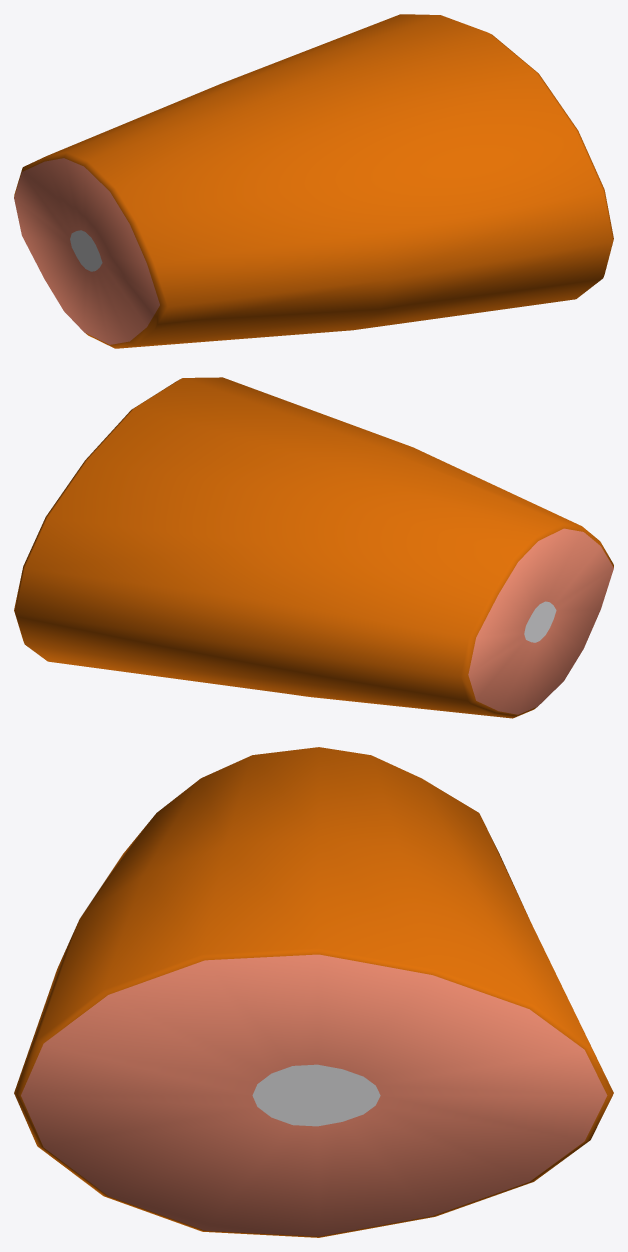
The model's file is Fish_05.3.fbx.
3 views of the same model, one above another, from view 1: azimuth 30°, elevation 25°; view 2: azimuth 150°, elevation 25°; view 3: azimuth 270°, elevation 25° (orthographic). The views are drawn at different scales.
Parts seen in each view (by area): view 1: Fish_05.3; view 2: Fish_05.3; view 3: Fish_05.3.
Boxes of the visible parts, x1,y1,x2,y2 form: Fish_05.3: (14, 14, 613, 348); Fish_05.3: (14, 377, 613, 718); Fish_05.3: (14, 747, 613, 1237).
Bounding box in the file's own units: 101 × 105 × 55.67.
